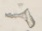microplastic: (5, 8, 35, 28)
